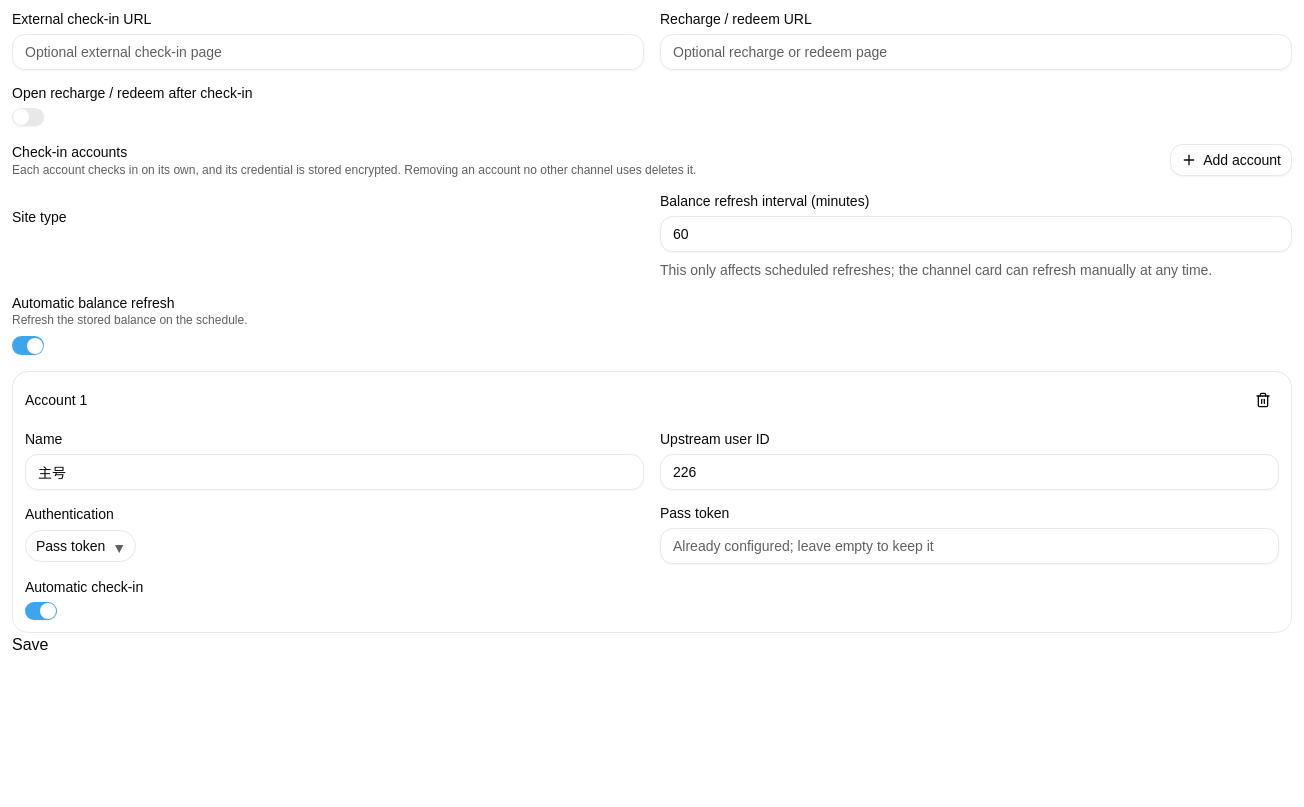
channel check-in fields › removes a new account right away
Step 1. Click the button "Add account" → (1231, 160), box 1170,144 -> 1292,176
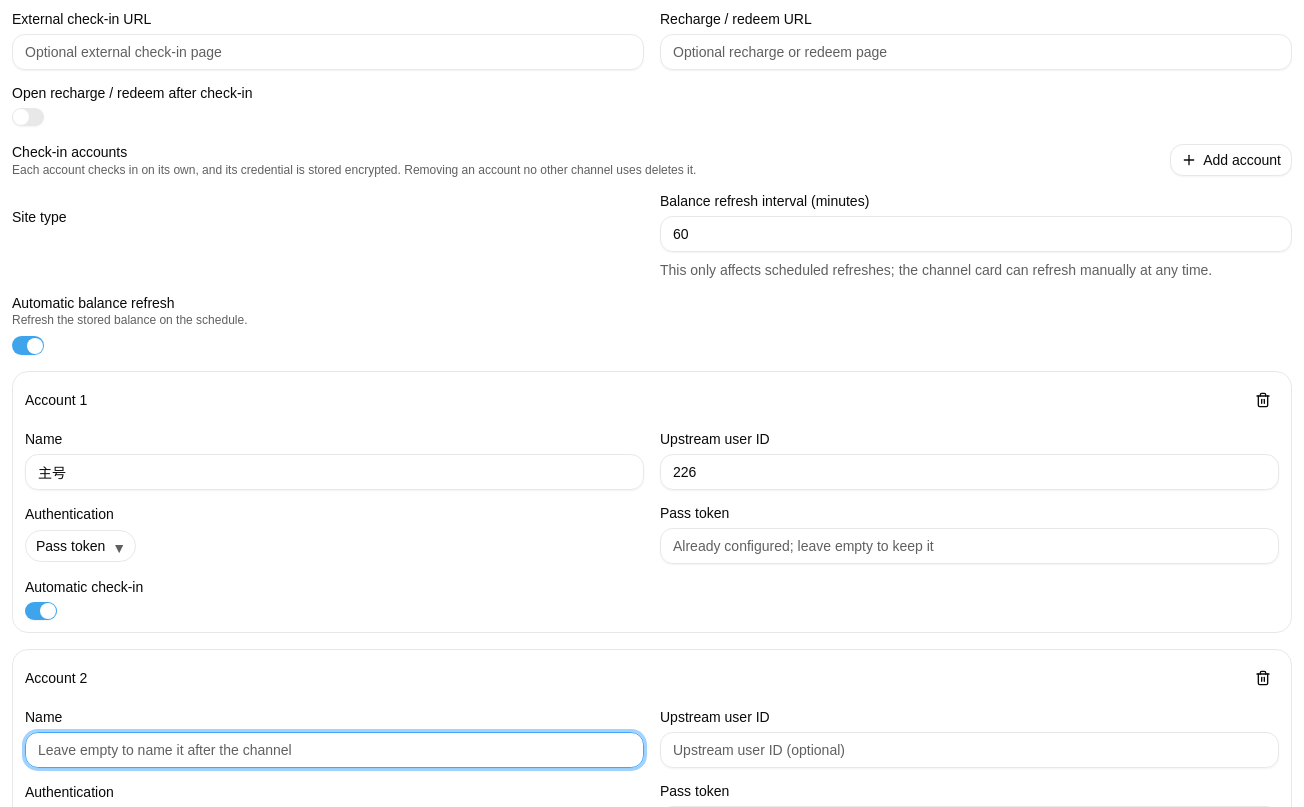
Step 2. Click the button named "Remove account 2" → (1263, 678), box 1247,662 -> 1279,694
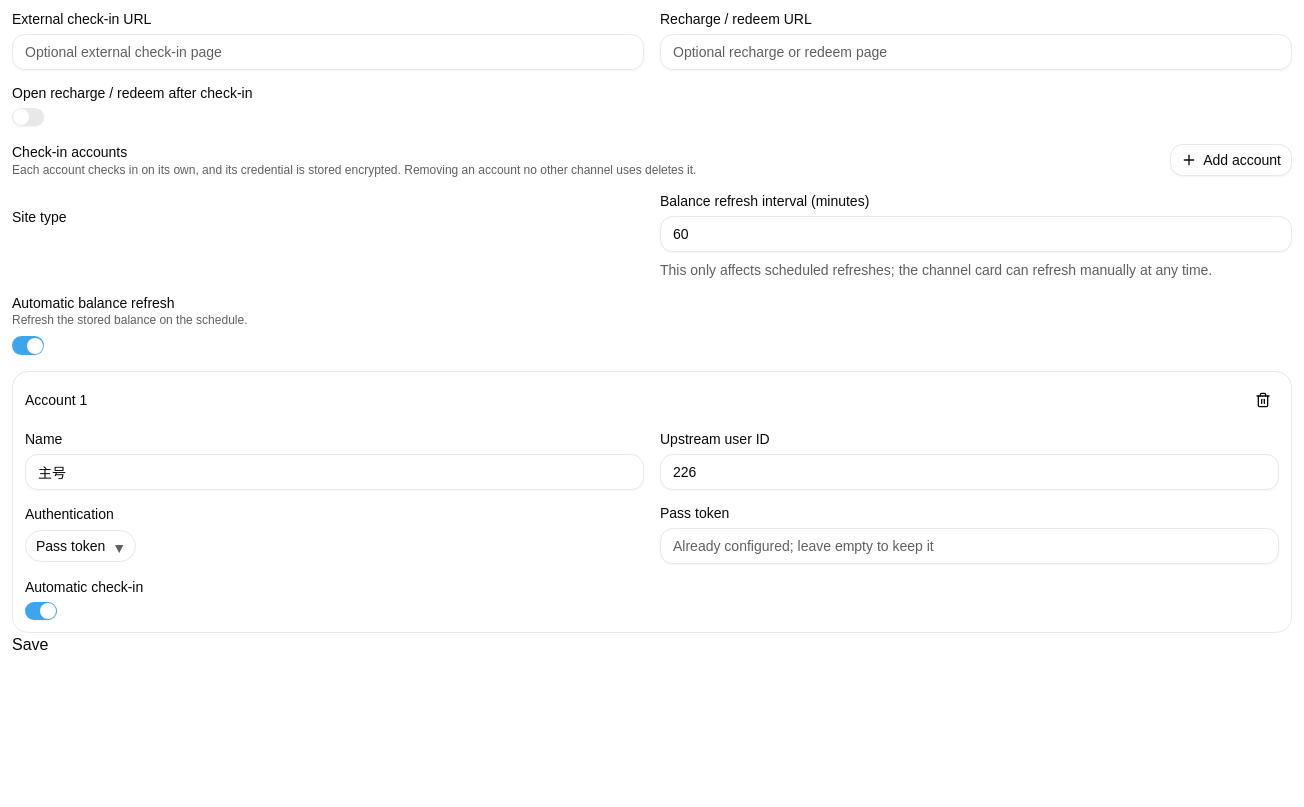
expect the text "Account 2" is gone: met
